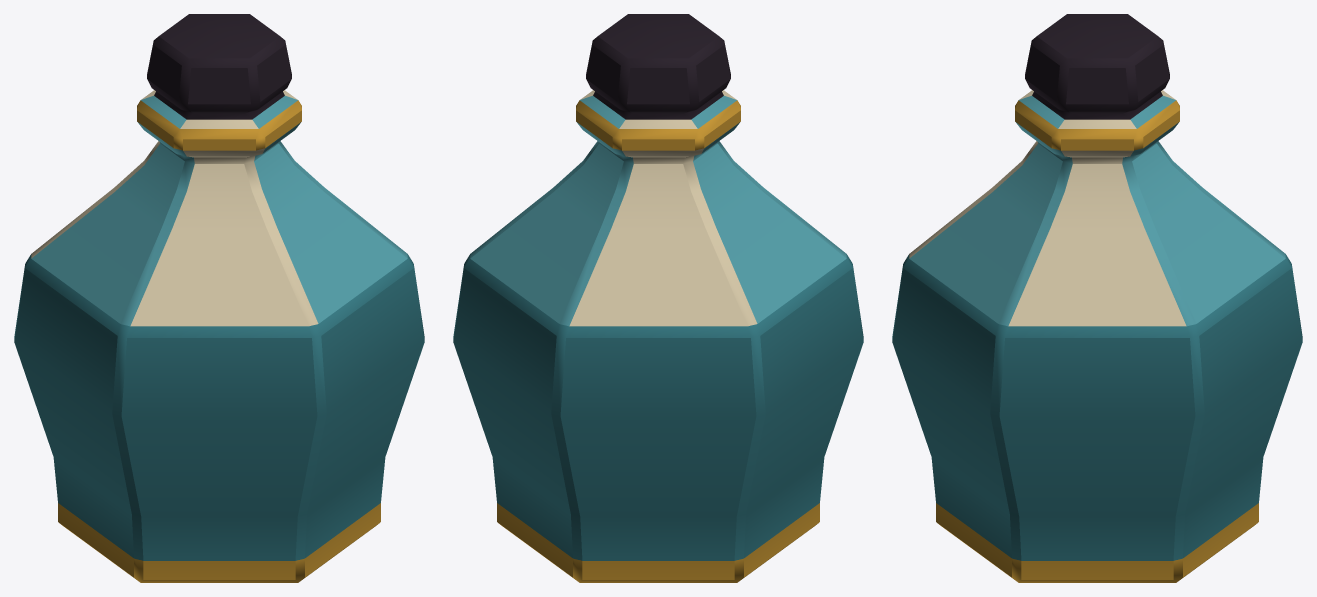
Rendered from Bottle_08.glb.
3 views of the same model, side by side, from view 1: azimuth 30°, elevation 25°; view 2: azimuth 150°, elevation 25°; view 3: azimuth 270°, elevation 25° (orthographic).
Visible parts, largest first — view 1: Bottle_08; view 2: Bottle_08; view 3: Bottle_08.
Boxes of the visible parts, x1,y1,x2,y2 form: Bottle_08: [14, 14, 424, 582]; Bottle_08: [453, 14, 863, 582]; Bottle_08: [892, 14, 1302, 582].
Bounding box in the file's own units: 1.45 × 2.21 × 1.65.
